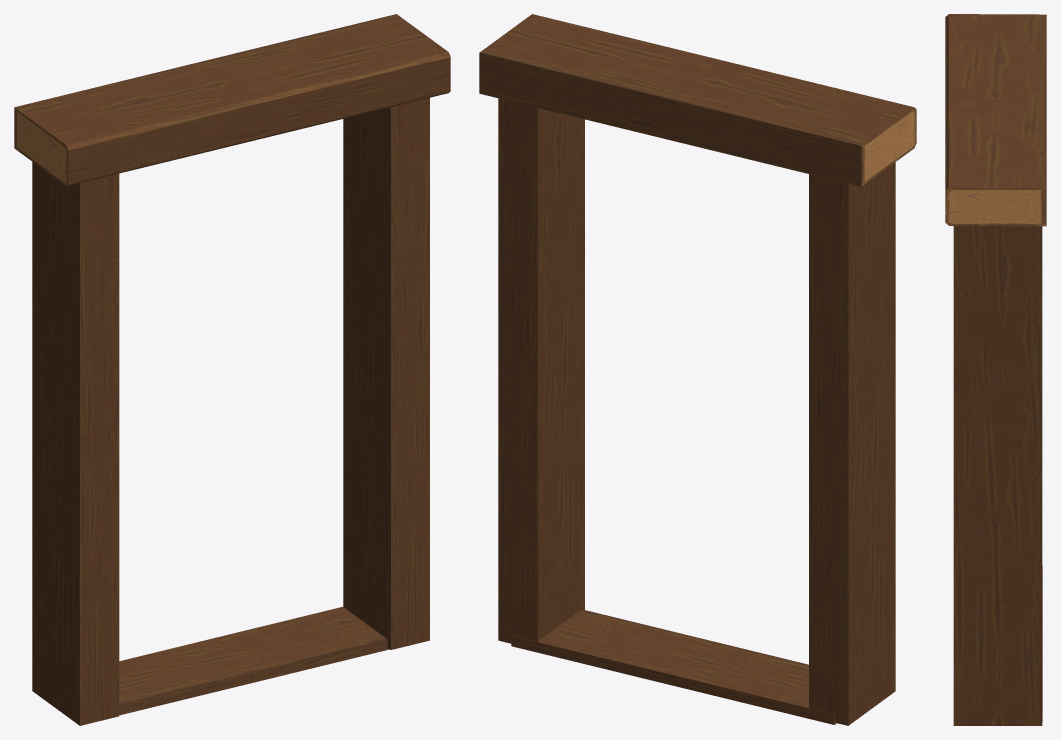
File: DoorFrame_Flat_WoodDark.glb
3 views of the same model, side by side, from view 1: azimuth 30°, elevation 25°; view 2: azimuth 150°, elevation 25°; view 3: azimuth 270°, elevation 25° (orthographic). The views are drawn at different scales.
Visible parts, largest first — view 1: DoorFrame_Flat_WoodDark; view 2: DoorFrame_Flat_WoodDark; view 3: DoorFrame_Flat_WoodDark.
Part boxes in pixels (x1,y1,x2,y2): DoorFrame_Flat_WoodDark: (14, 14, 450, 725); DoorFrame_Flat_WoodDark: (479, 14, 916, 725); DoorFrame_Flat_WoodDark: (945, 14, 1046, 725).
Size of the model in its own units: 1.57 by 2.31 by 0.3884.
1 material, 1 textured.
